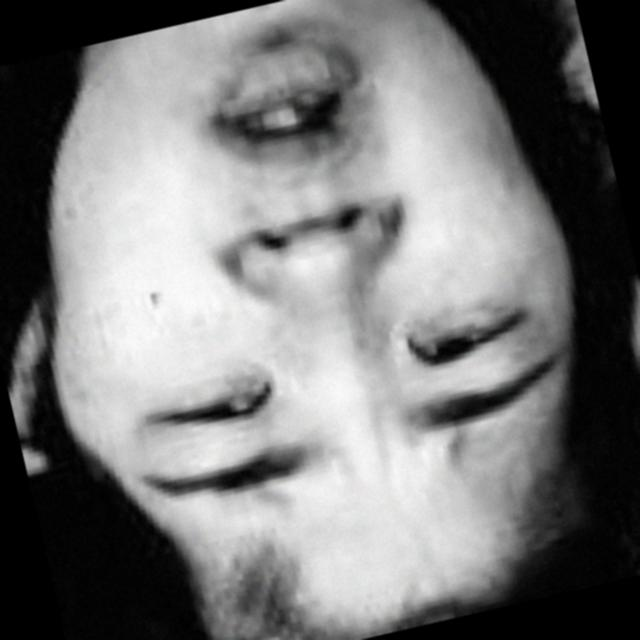disgust: (15, 0, 605, 603)
